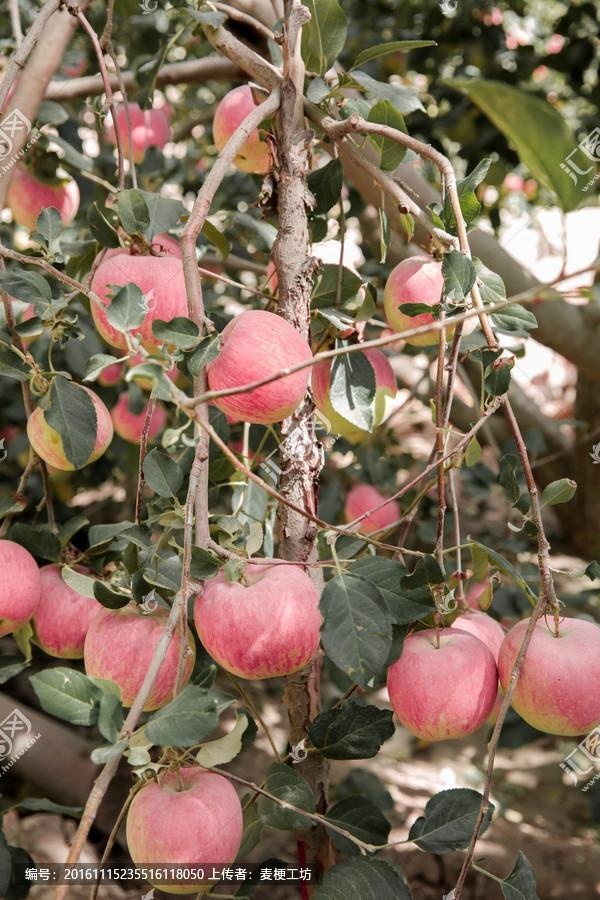apple: (196, 561, 326, 681), (384, 622, 502, 743), (123, 761, 245, 878), (202, 312, 315, 425), (498, 609, 600, 734), (84, 596, 194, 708), (92, 251, 198, 355), (380, 251, 475, 348), (27, 381, 111, 472), (212, 85, 276, 174)
